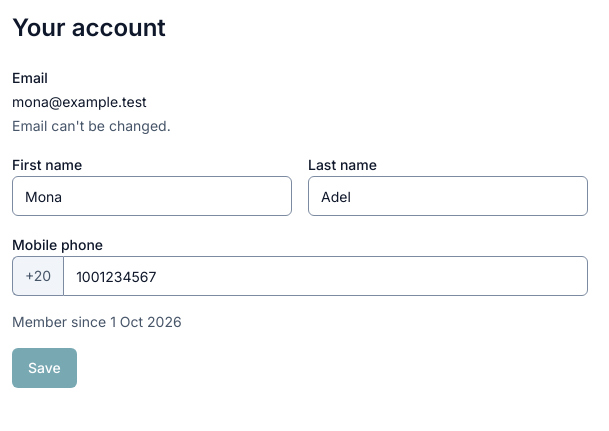
Scenario: profile (spec 01 SF-15) › client validation: nothing is sent
Replace the text in the field labelled "Mobile phone" with "123". click: [326, 276]
box: [63,256,588,296]
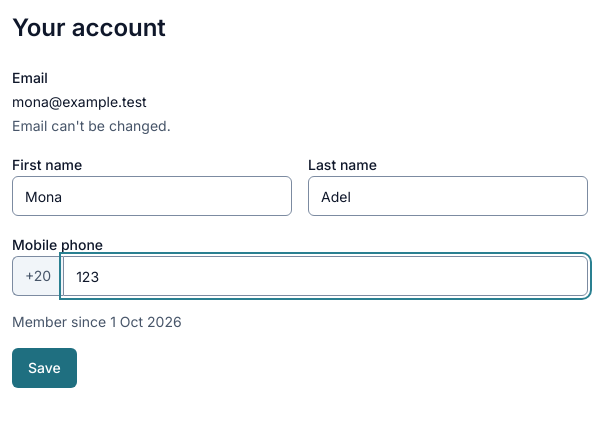
Click the button "Save". click: [44, 368]
box: [12,348,77,388]
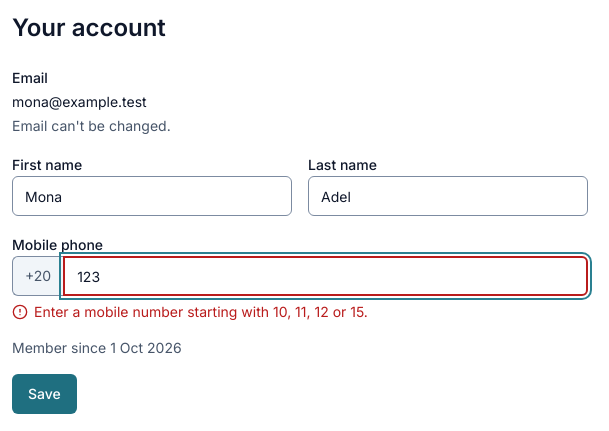
Check: the text "Enter a mobile number starting with 10, 11, 12 or 15." is shown, box [12,303,368,320]
